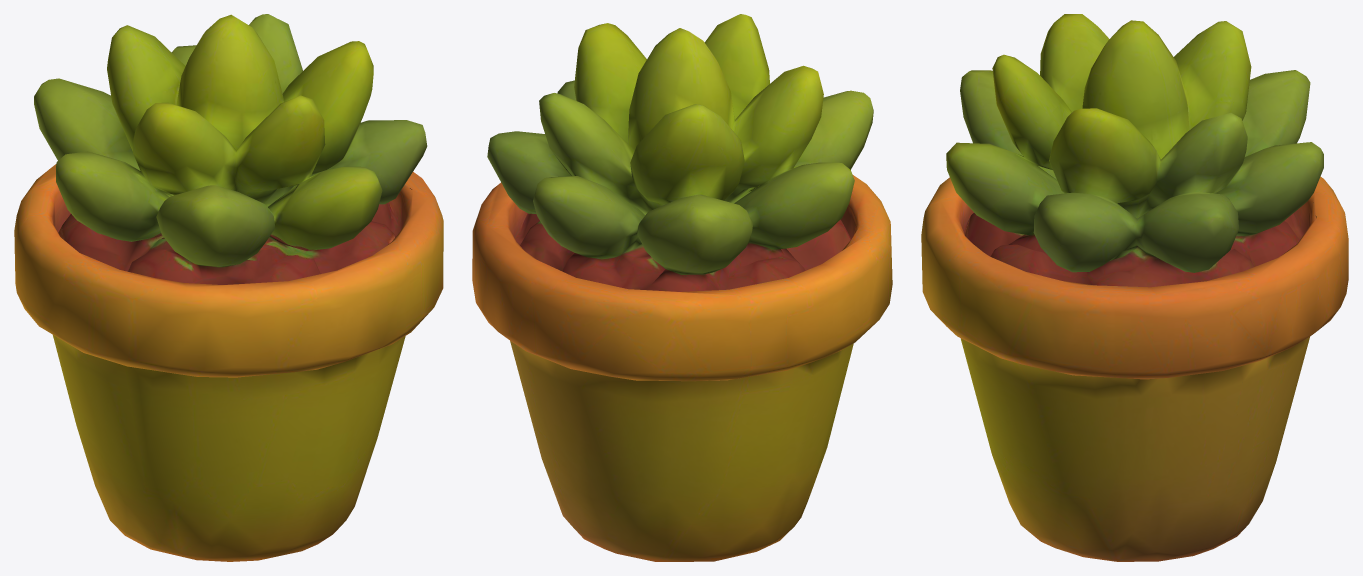
Rendered from succulent.glb.
3 renders of one model, left to right at view 1: azimuth 30°, elevation 25°; view 2: azimuth 150°, elevation 25°; view 3: azimuth 270°, elevation 25°, orthographic. The views are drawn at different scales.
Parts seen in each view (by area): view 1: low; view 2: low; view 3: low.
Boxes of the visible parts, x1,y1,x2,y2 form: low: (14,14,443,561); low: (472,14,892,561); low: (921,14,1348,561).
Size of the model in its own units: 0.768 by 0.9776 by 0.7683.
Materials: 1 (1 with a texture image).
